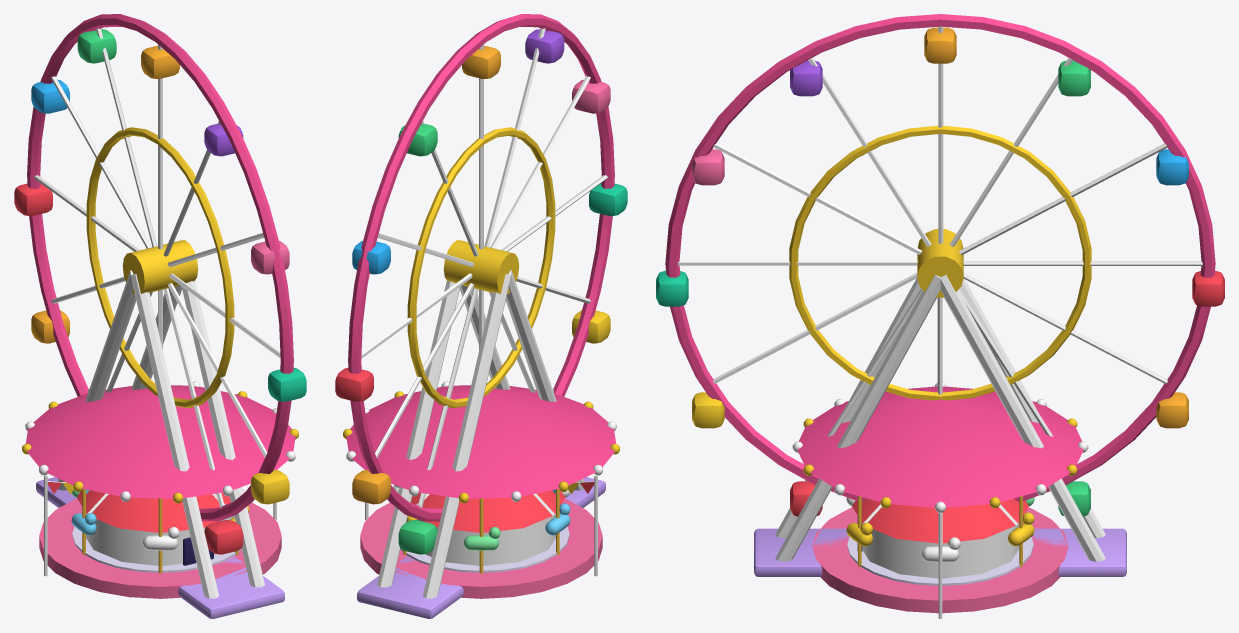
File: sunburst.glb
The picture shows the model from 3 angles, left to right: view 1: azimuth 30°, elevation 25°; view 2: azimuth 150°, elevation 25°; view 3: azimuth 270°, elevation 25°; orthographic projection. The views are drawn at different scales.
Visible parts, largest first — view 1: wheel_ferris, top_carousel, ferris_base, carousel_base, striped_tent, fountain, bunting; view 2: wheel_ferris, top_carousel, ferris_base, carousel_base, striped_tent, fountain, bunting; view 3: wheel_ferris, top_carousel, ferris_base, carousel_base, striped_tent, fountain.
Boxes of the visible parts, left/top/right/bottom form: wheel_ferris: left=14, top=14, right=306, bottom=554; top_carousel: left=22, top=381, right=298, bottom=573; ferris_base: left=36, top=270, right=284, bottom=618; carousel_base: left=39, top=498, right=281, bottom=598; striped_tent: left=76, top=490, right=234, bottom=565; fountain: left=72, top=526, right=241, bottom=572; bunting: left=44, top=475, right=276, bottom=576; wheel_ferris: left=335, top=14, right=627, bottom=554; top_carousel: left=343, top=381, right=619, bottom=573; ferris_base: left=357, top=270, right=605, bottom=618; carousel_base: left=360, top=498, right=602, bottom=598; striped_tent: left=411, top=490, right=565, bottom=565; fountain: left=400, top=526, right=569, bottom=572; bunting: left=365, top=475, right=597, bottom=576; wheel_ferris: left=656, top=14, right=1224, bottom=516; top_carousel: left=792, top=382, right=1088, bottom=566; ferris_base: left=754, top=275, right=1126, bottom=576; carousel_base: left=812, top=507, right=1068, bottom=613; striped_tent: left=852, top=498, right=1028, bottom=578; fountain: left=847, top=537, right=1033, bottom=585.
Size of the model in its own units: 12.68 by 25.96 by 24.4.
